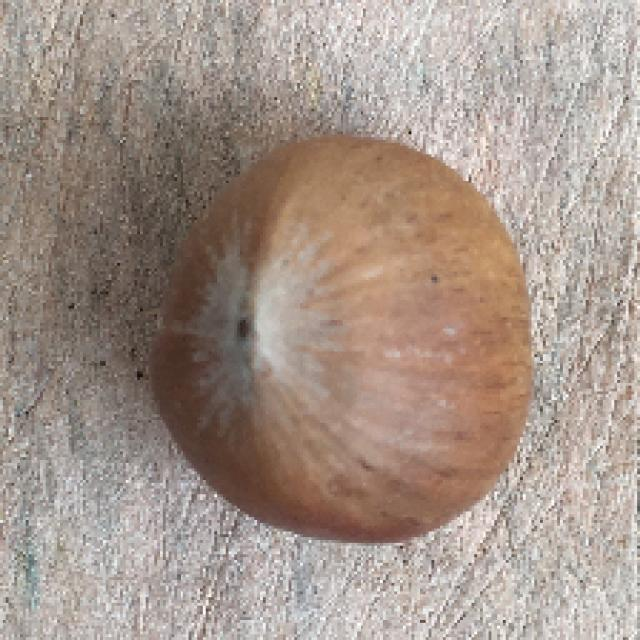qualityHazelnut: (154, 128, 544, 552)
